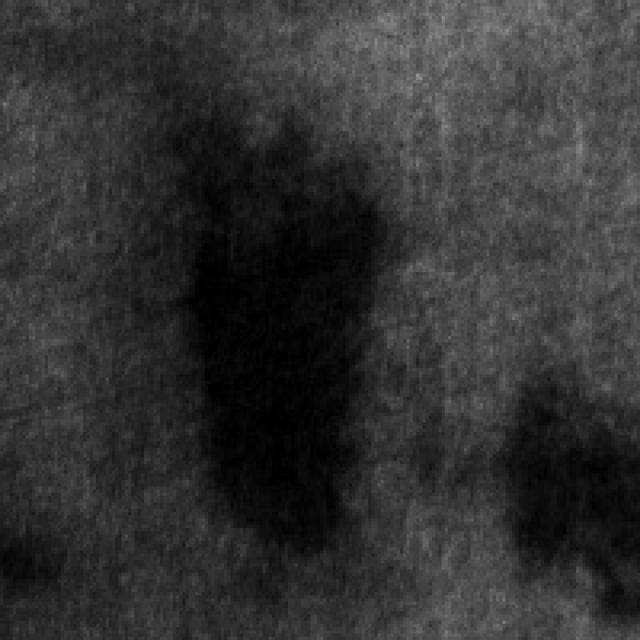patches: (166, 112, 394, 554), (493, 374, 637, 618)
